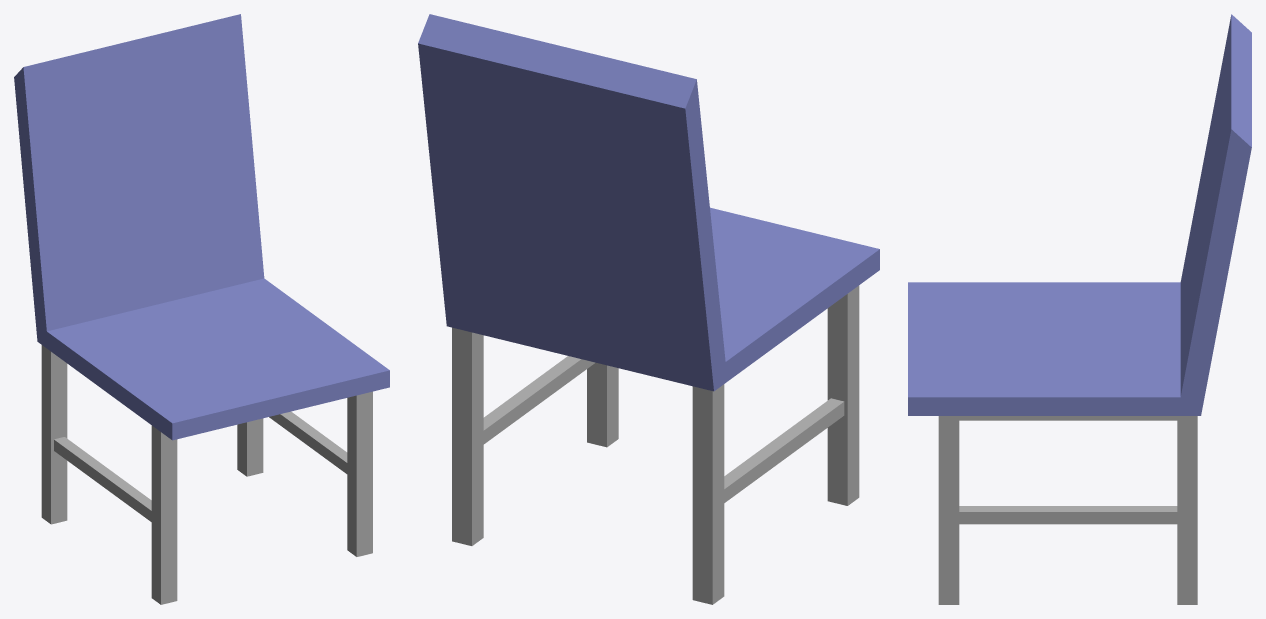
Rendered from Chair3.fbx.
The picture shows the model from 3 angles, left to right: view 1: azimuth 30°, elevation 25°; view 2: azimuth 150°, elevation 25°; view 3: azimuth 270°, elevation 25°; orthographic projection. The views are drawn at different scales.
Visible parts, largest first — view 1: Cube; view 2: Cube; view 3: Cube.
Boxes of the visible parts, bbox=[...] form: Cube: bbox=[14, 14, 389, 604]; Cube: bbox=[418, 14, 879, 604]; Cube: bbox=[908, 14, 1251, 604].
Size of the model in its own units: 0.76 by 1.47 by 0.9587.
